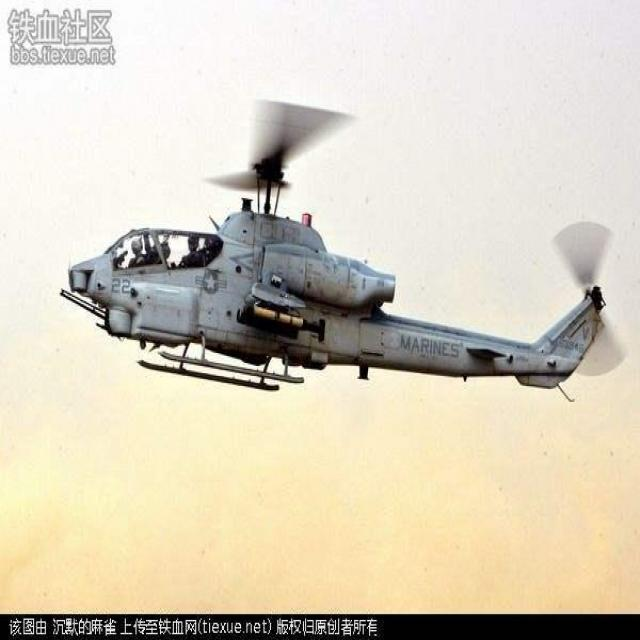MIL_HELO: (61, 82, 640, 420)
